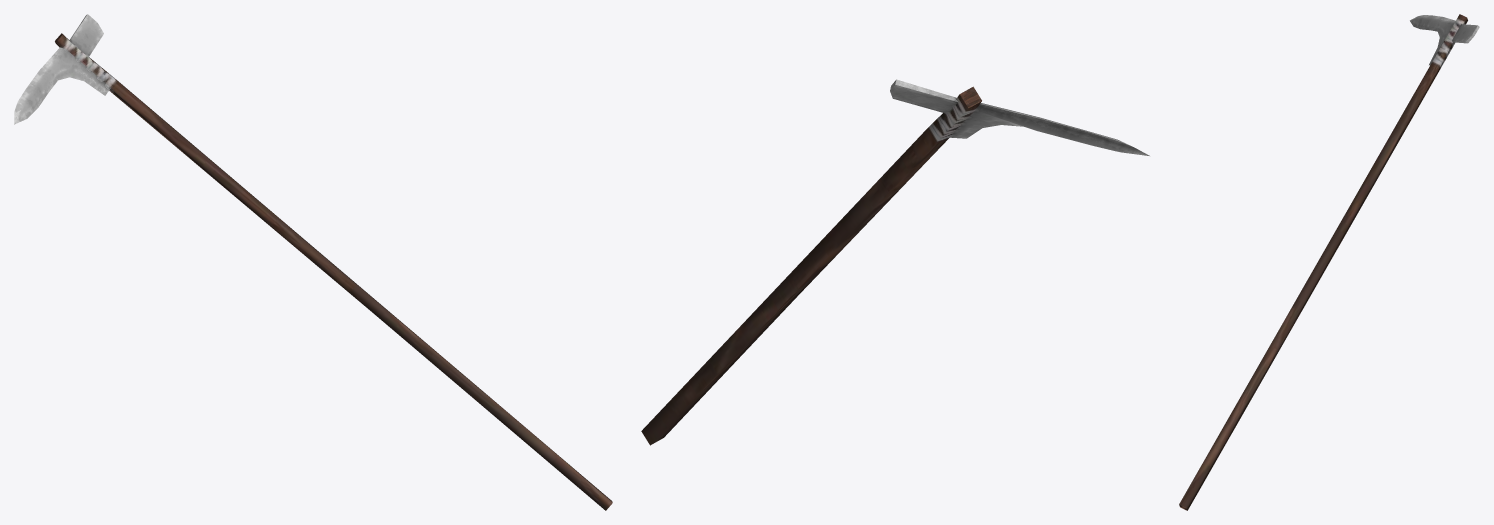
The model's file is weapon-copperweapons.glb.
3 views of the same model, side by side, from view 1: azimuth 30°, elevation 25°; view 2: azimuth 150°, elevation 25°; view 3: azimuth 270°, elevation 25° (orthographic). The views are drawn at different scales.
Size of the model in its own units: 1.62 by 1.5 by 1.15.
1 material, 1 textured.
